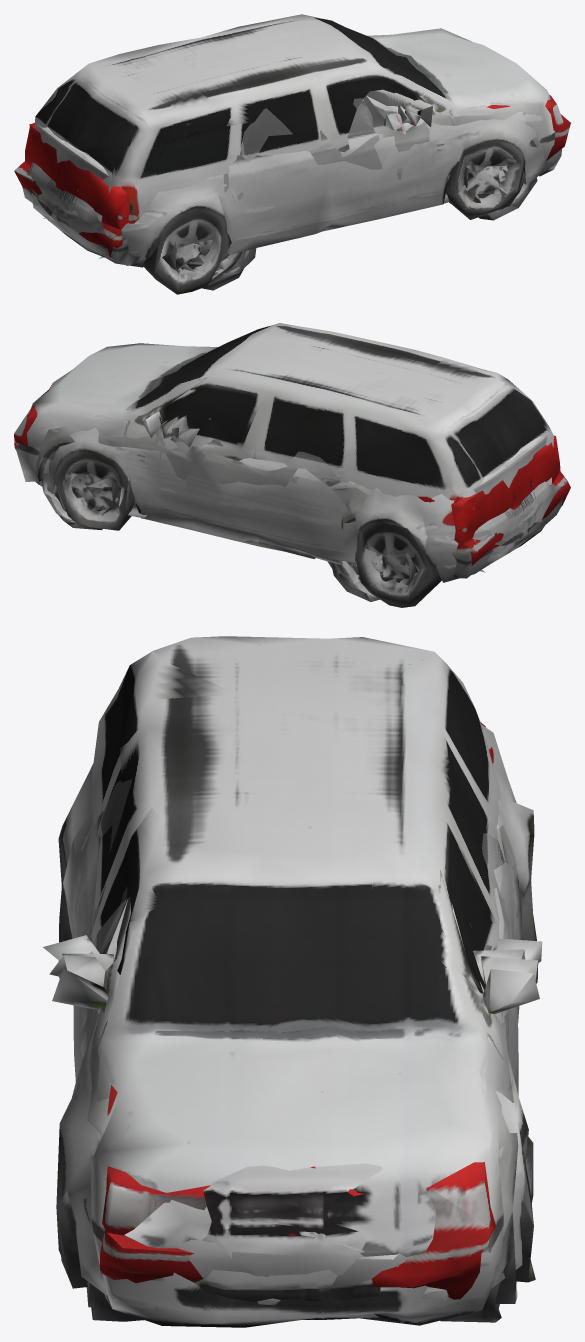
File: cars.fbx
The picture shows the model from 3 angles, top to bottom: view 1: azimuth 30°, elevation 25°; view 2: azimuth 150°, elevation 25°; view 3: azimuth 270°, elevation 25°; orthographic projection. The views are drawn at different scales.
Parts seen in each view (by area): view 1: car3_LOD0, car7_LOD0, car2_LOD0, car6_LOD0, car5_LOD0, car1_LOD0; view 2: car3_LOD0, car7_LOD0, car2_LOD0, car6_LOD0, car5_LOD0, car1_LOD0; view 3: car3_LOD0, car7_LOD0, car2_LOD0, car6_LOD0, car1_LOD0.
Boxes of the visible parts, box(x1,y1,x2,y2) form: car3_LOD0: box(22, 14, 561, 290); car7_LOD0: box(27, 96, 547, 294); car2_LOD0: box(48, 89, 539, 283); car6_LOD0: box(14, 95, 570, 279); car5_LOD0: box(31, 114, 490, 267); car1_LOD0: box(32, 105, 482, 276); car3_LOD0: box(16, 323, 566, 601); car7_LOD0: box(39, 418, 561, 607); car2_LOD0: box(33, 370, 536, 596); car6_LOD0: box(14, 376, 570, 593); car5_LOD0: box(88, 427, 553, 581); car1_LOD0: box(111, 415, 538, 579); car3_LOD0: box(52, 636, 539, 1327); car7_LOD0: box(43, 724, 542, 1319); car2_LOD0: box(49, 779, 537, 1307); car6_LOD0: box(89, 722, 525, 1299); car1_LOD0: box(62, 949, 524, 1290).
Size of the model in its own units: 912 by 324 by 412.
